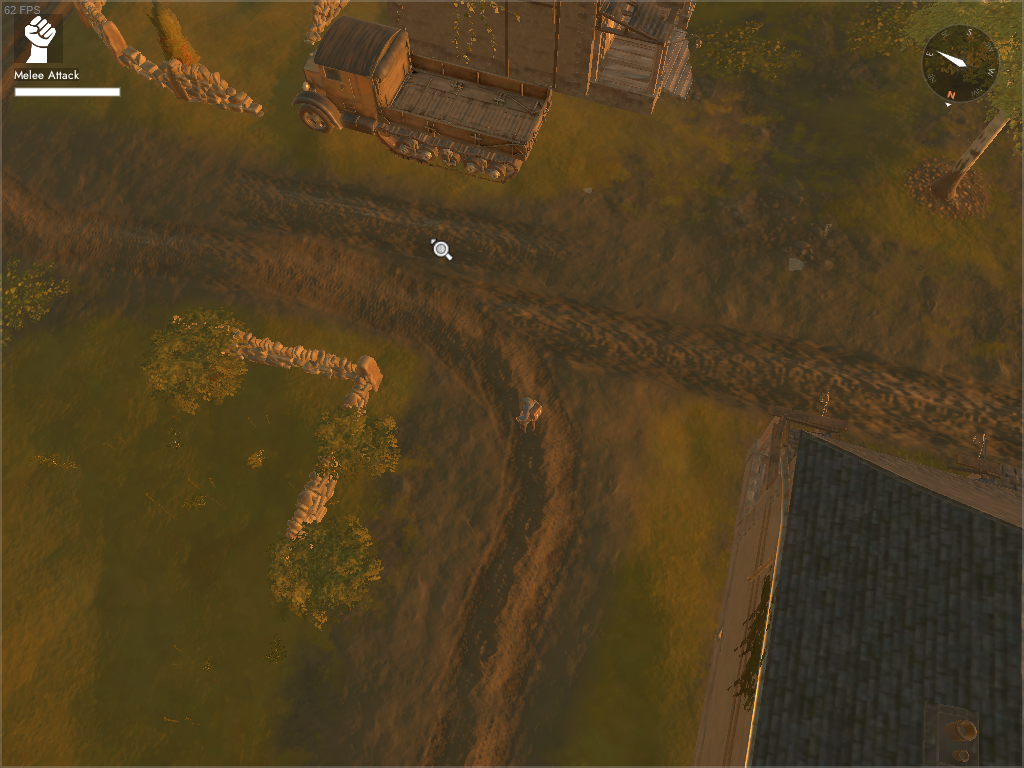flatbed: (290, 12, 557, 188)
player: (510, 387, 544, 438)
